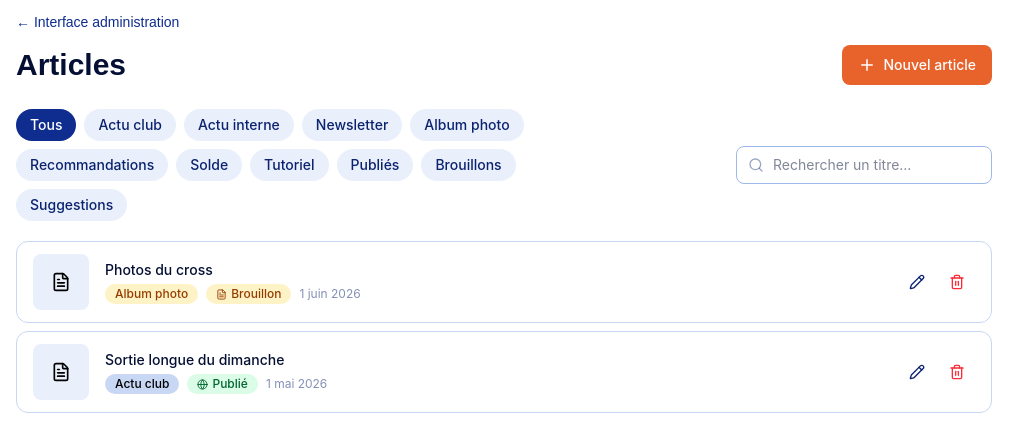
Scenario: GestionArticles › filtre par recherche et par onglet
This screenshot has width=1009, height=430.
Check: the text "Sortie longue du dimanche" is shown, box [105,351,284,368]
Type "CROSS" into the search field with placeholder "Rechercher un titre…". click: (864, 165)
box: [736,146,992,184]
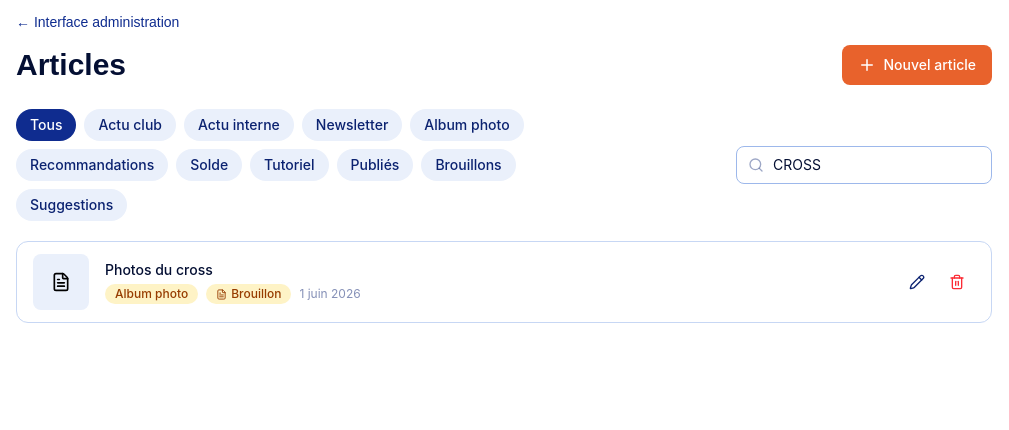
Check: the text "Photos du cross" is shown, box [105,261,213,278]
Check: the text "Sortie longue du dimanche" is gone
Clear the search field with placeholder "Rechercher un titre…". click: (864, 165)
box: [736,146,992,184]
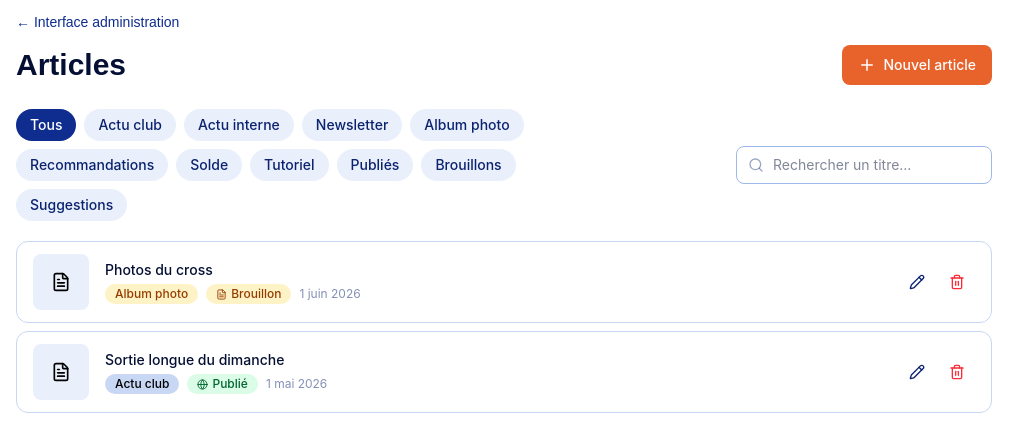
Click the button "Publiés". click: (375, 165)
box: [336,149,413,181]
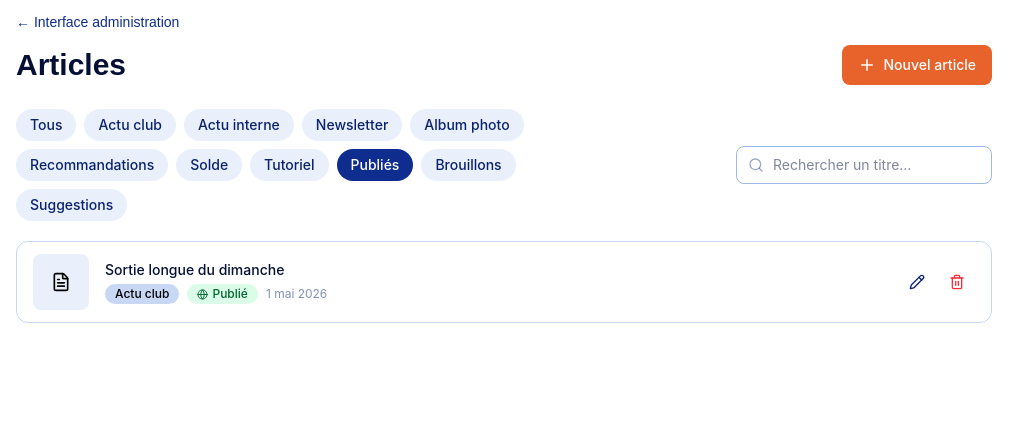
Check: the text "Sortie longue du dimanche" is shown, box [105,261,284,278]
Check: the text "Photos du cross" is gone
